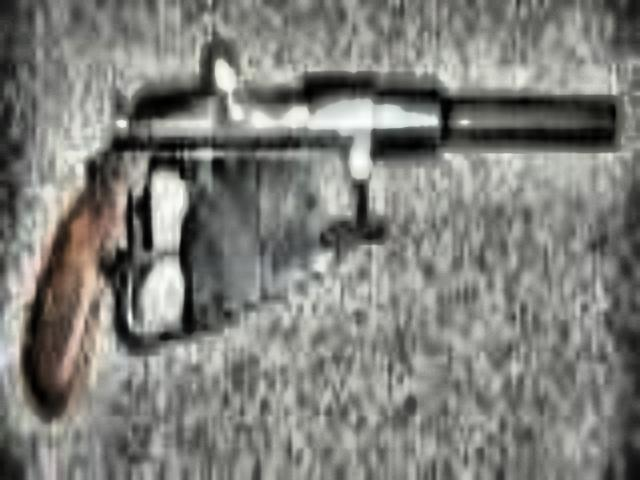pistol: (4, 32, 612, 408)
